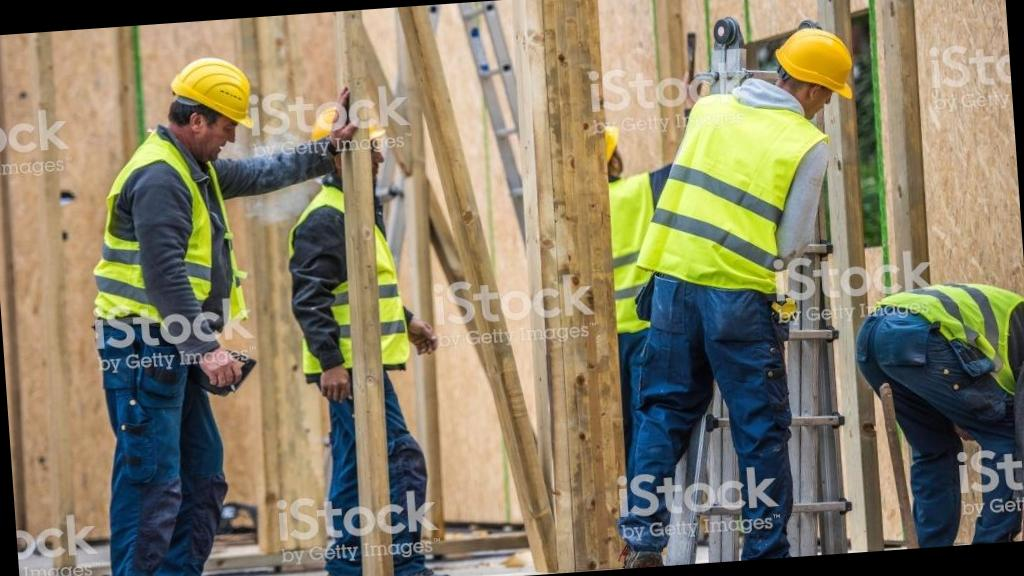Vest: (630, 86, 834, 297), (88, 132, 248, 336)
